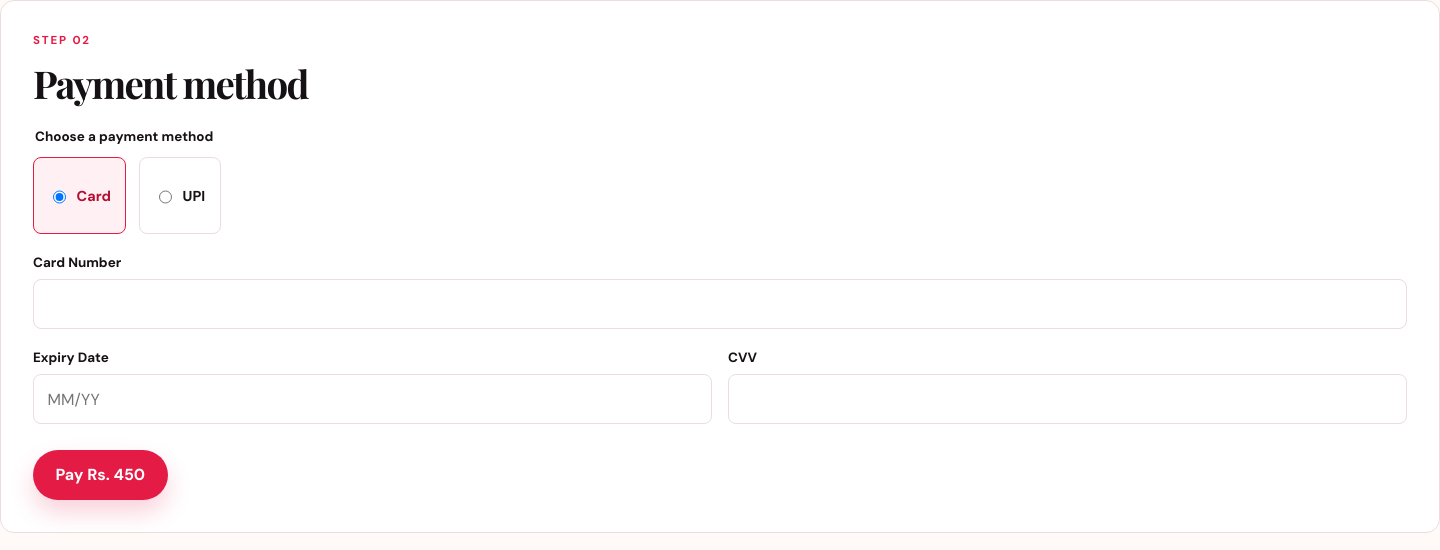
Test case: booking components › renders a UPI validation error without leaving the payment form
The width and height of the screenshot is (1440, 550).
Click the radio button labelled "UPI" at (166, 197), box [159, 172, 172, 222]
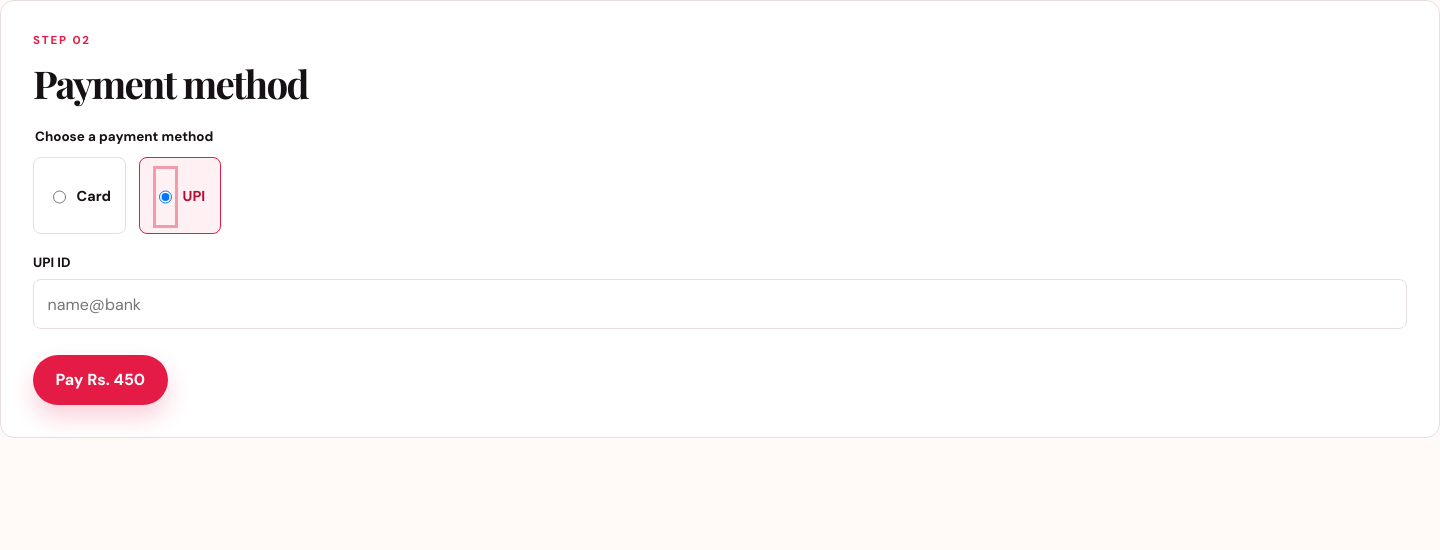
Type "not-a-upi-id" into the field labelled "UPI ID" at (720, 304), box [33, 279, 1407, 329]
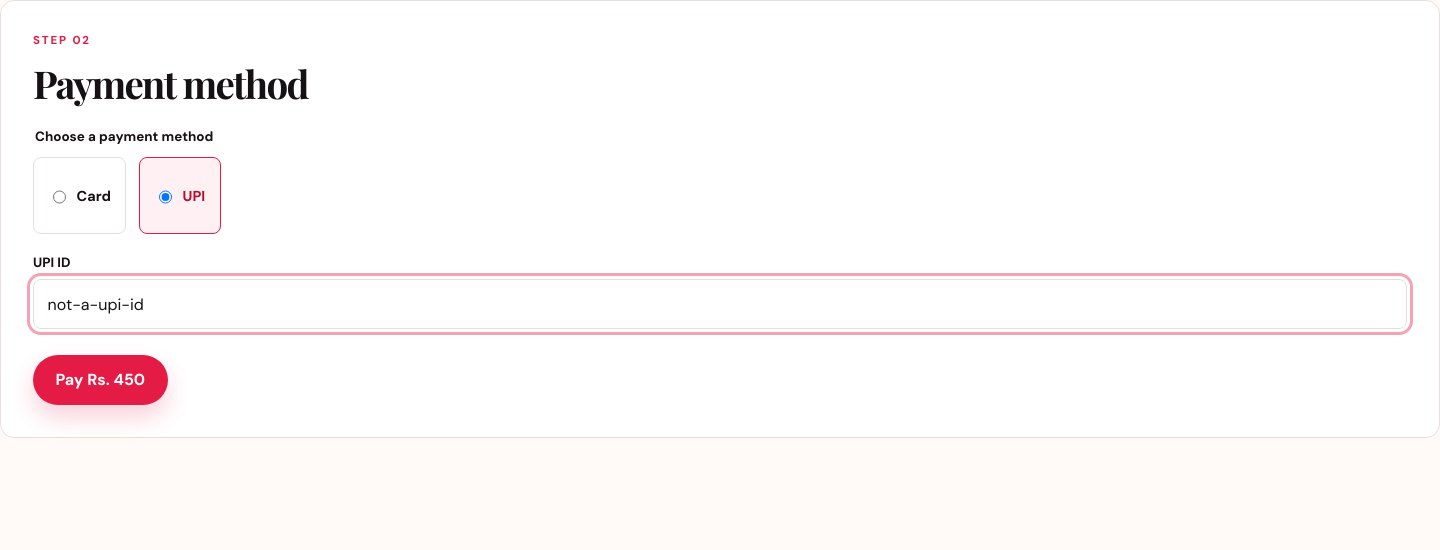
Click the button "Pay Rs. 450" at (100, 380), box [33, 355, 168, 405]
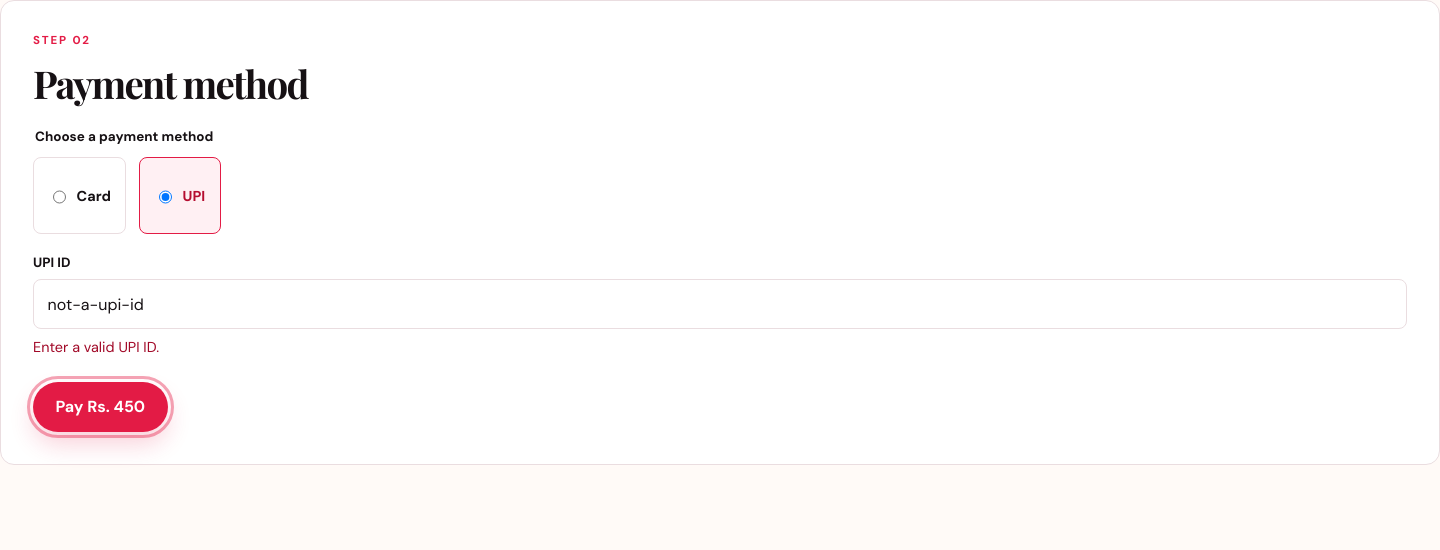
Expected: the button "Pay Rs. 450" is shown, [33, 382, 168, 432]
Expected: the message reads "Enter a valid UPI ID.", [33, 338, 159, 356]
